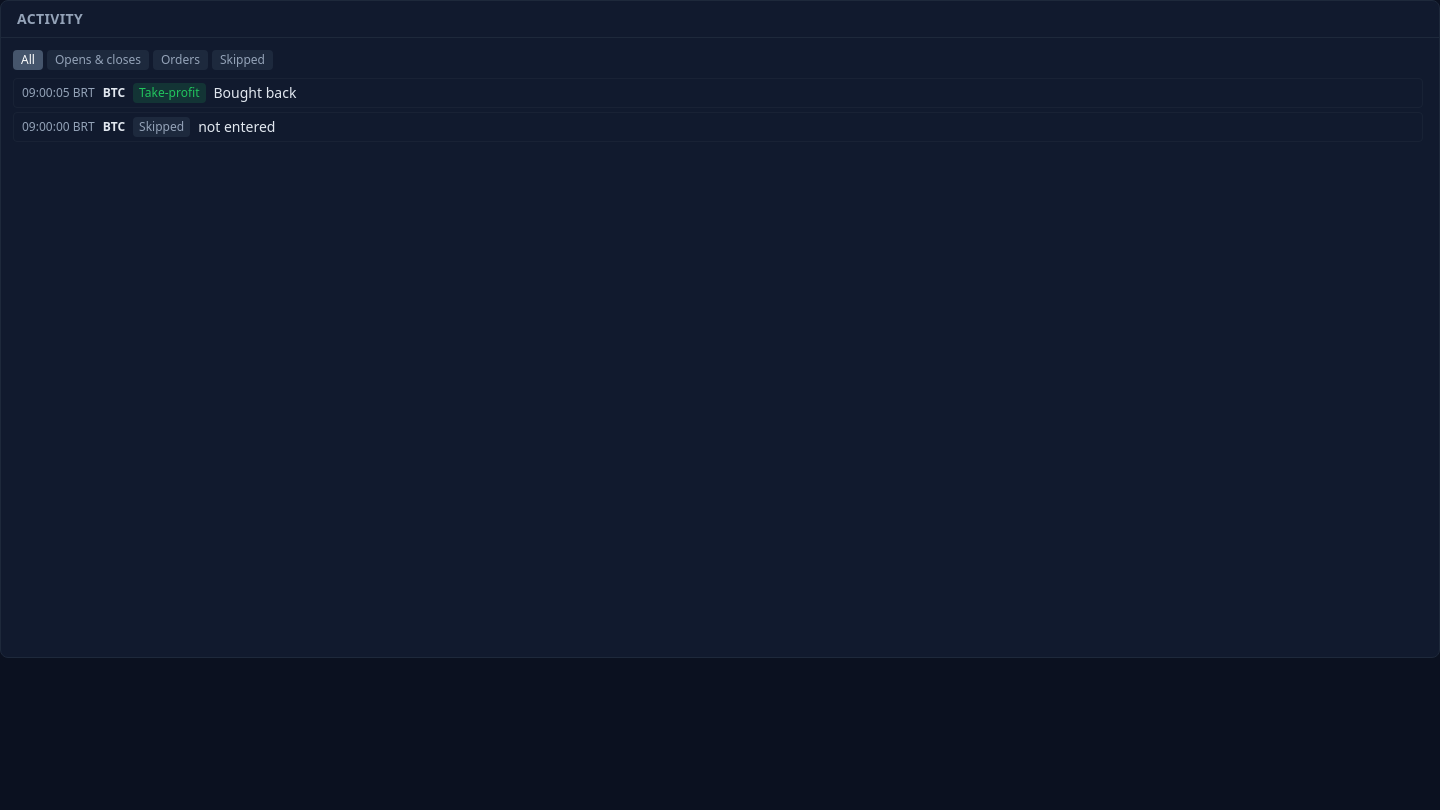
it: Scenario: Nothing else changes › the stretched Activity panel keeps its filters
Expected: the text "Take-profit" is shown, [133, 83, 206, 103]
Click the tab "Skipped": (242, 60) [212, 50, 273, 70]
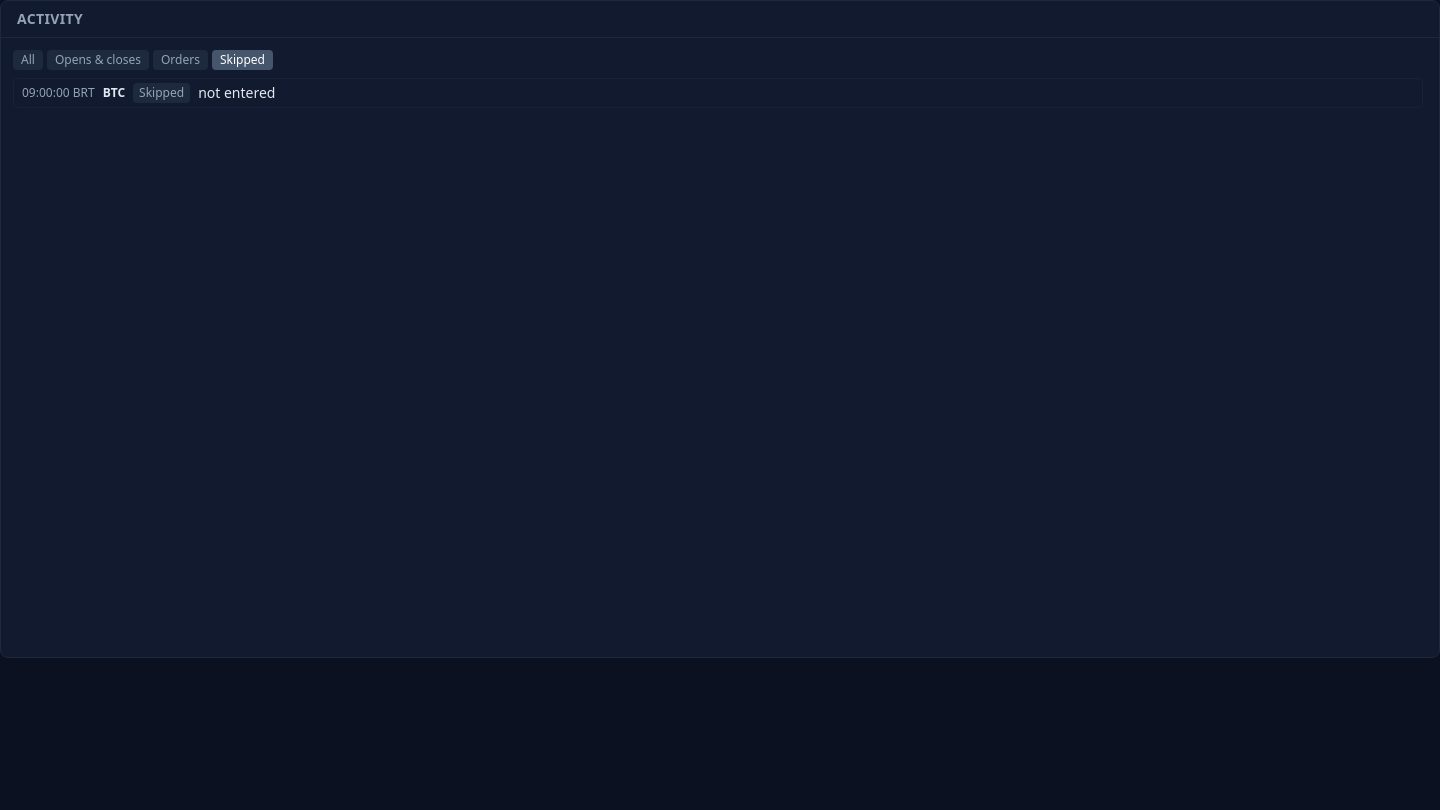
Expected: the text "not entered" is shown, [198, 83, 275, 103]
Now the text "Take-profit" is gone
